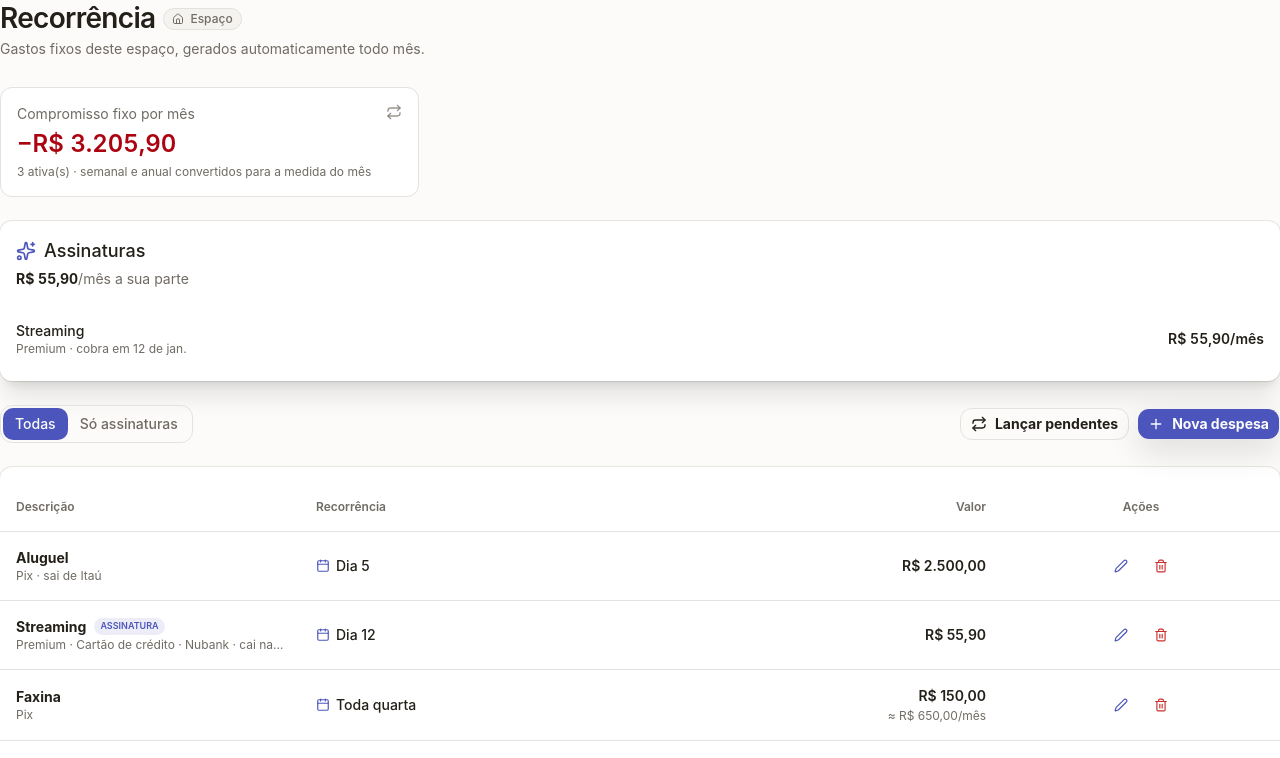
it: Recorrência — dividir com › oferece os membros do espaço para dividir
Click the button "Nova despesa" at x=1209, y=424, box [1137, 408, 1279, 440]
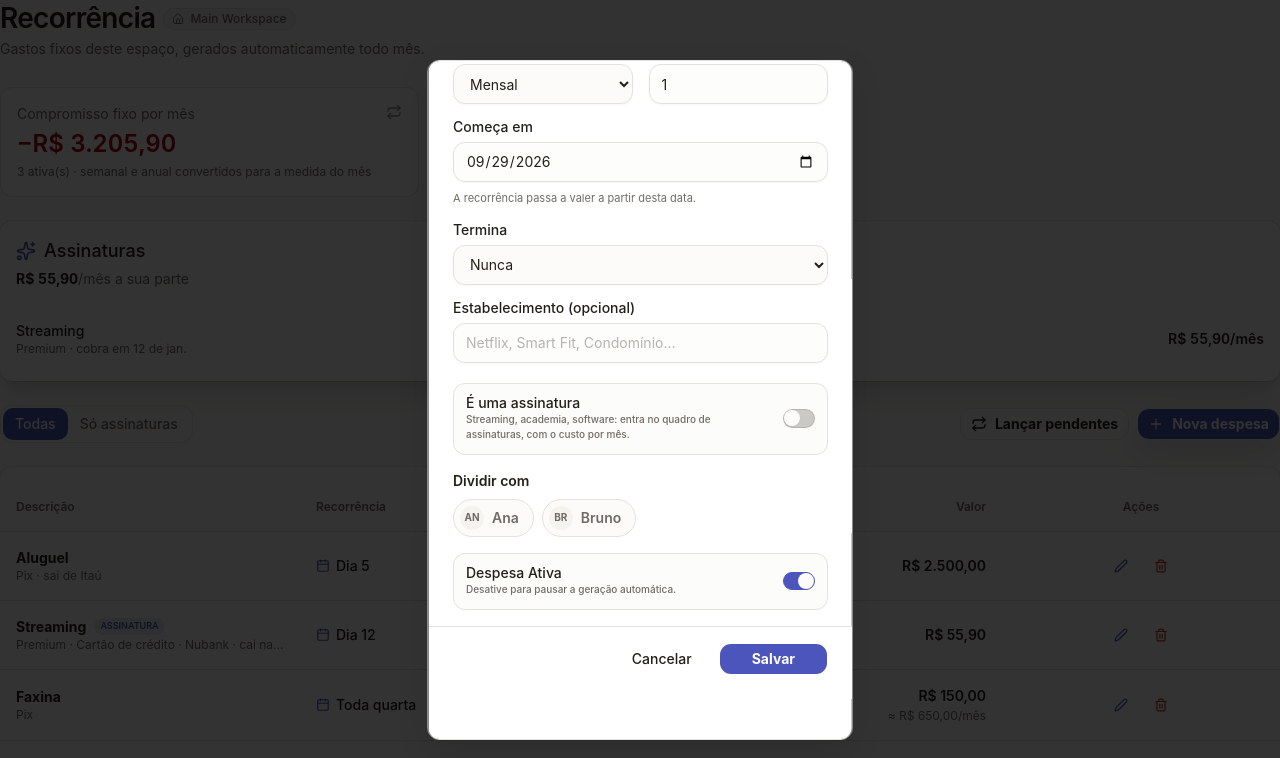
Expected: the text "Dividir com" is shown, [452, 470, 529, 490]
Expected: the button "An Ana" is shown, [452, 498, 533, 536]
Expected: the button "Br Bruno" is shown, [541, 498, 636, 536]
